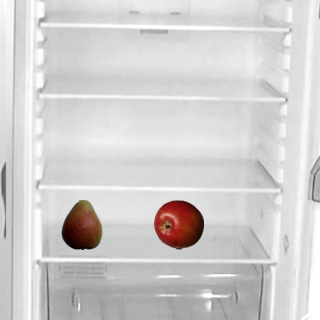Apple Braeburn: (153, 199, 203, 249)
Pear Forelle: (56, 199, 106, 249)
